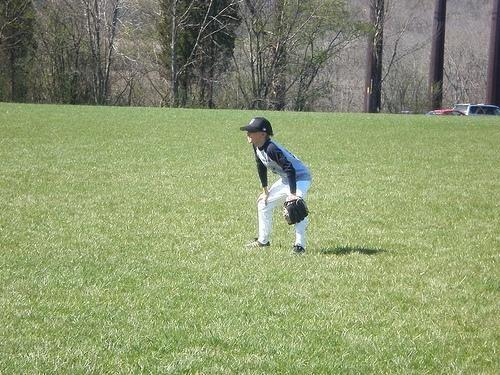car: (426, 110, 466, 117)
truck: (447, 104, 500, 116)
